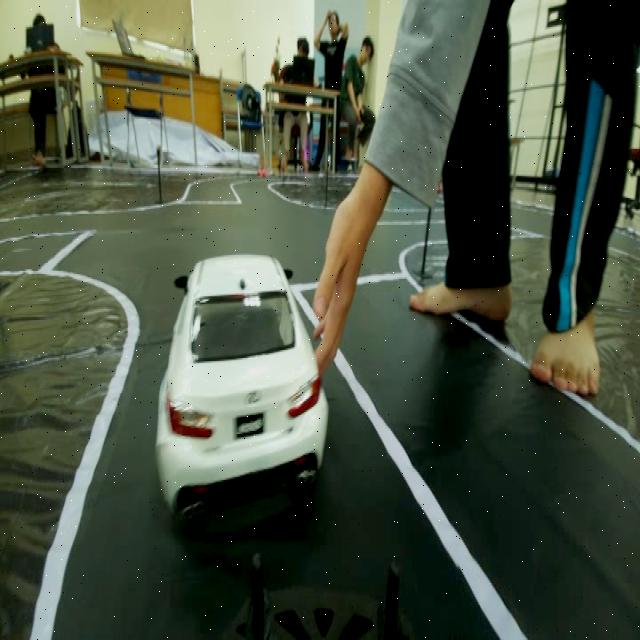car: (147, 240, 329, 514)
